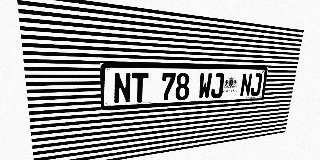7: (160, 73, 176, 101)
8: (175, 73, 190, 100)
J: (210, 73, 224, 98), (250, 73, 263, 96)
N: (113, 73, 131, 104), (239, 73, 253, 97)
T: (131, 73, 148, 103)
W: (198, 73, 212, 99)
